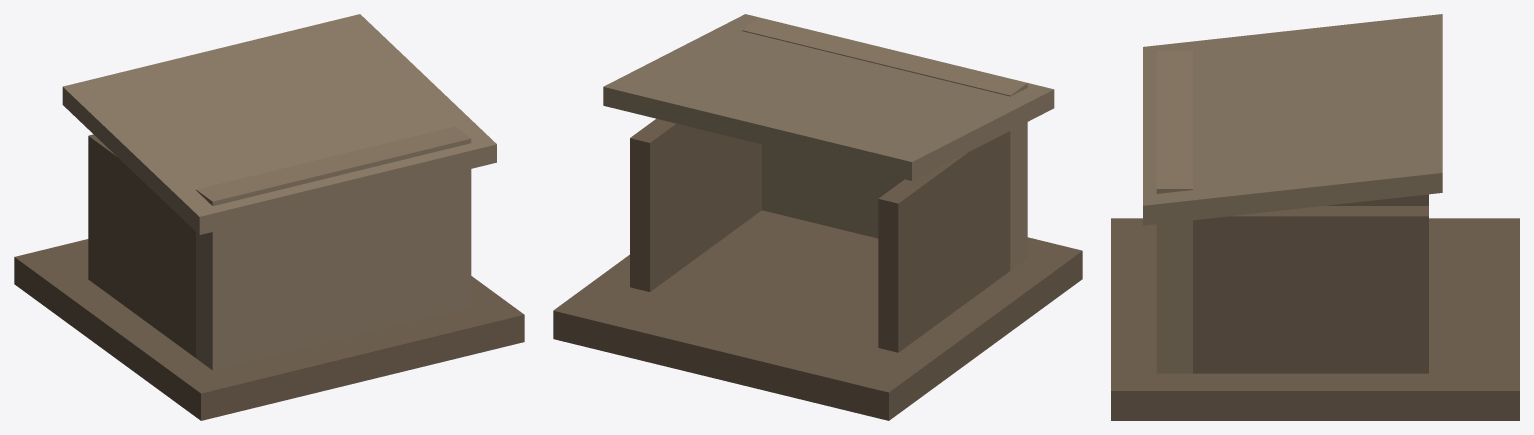
File: pulpit.glb
3 views of the same model, side by side, from view 1: azimuth 30°, elevation 25°; view 2: azimuth 150°, elevation 25°; view 3: azimuth 270°, elevation 25° (orthographic). The views are drawn at different scales.
Visible parts, largest first — view 1: pulpit; view 2: pulpit; view 3: pulpit.
Boxes of the visible parts, x1=… form: pulpit: x1=14, y1=14, x2=524, y2=420; pulpit: x1=553, y1=14, x2=1082, y2=420; pulpit: x1=1111, y1=14, x2=1519, y2=420.
Size of the model in its own units: 1.92 by 1.25 by 1.92.
